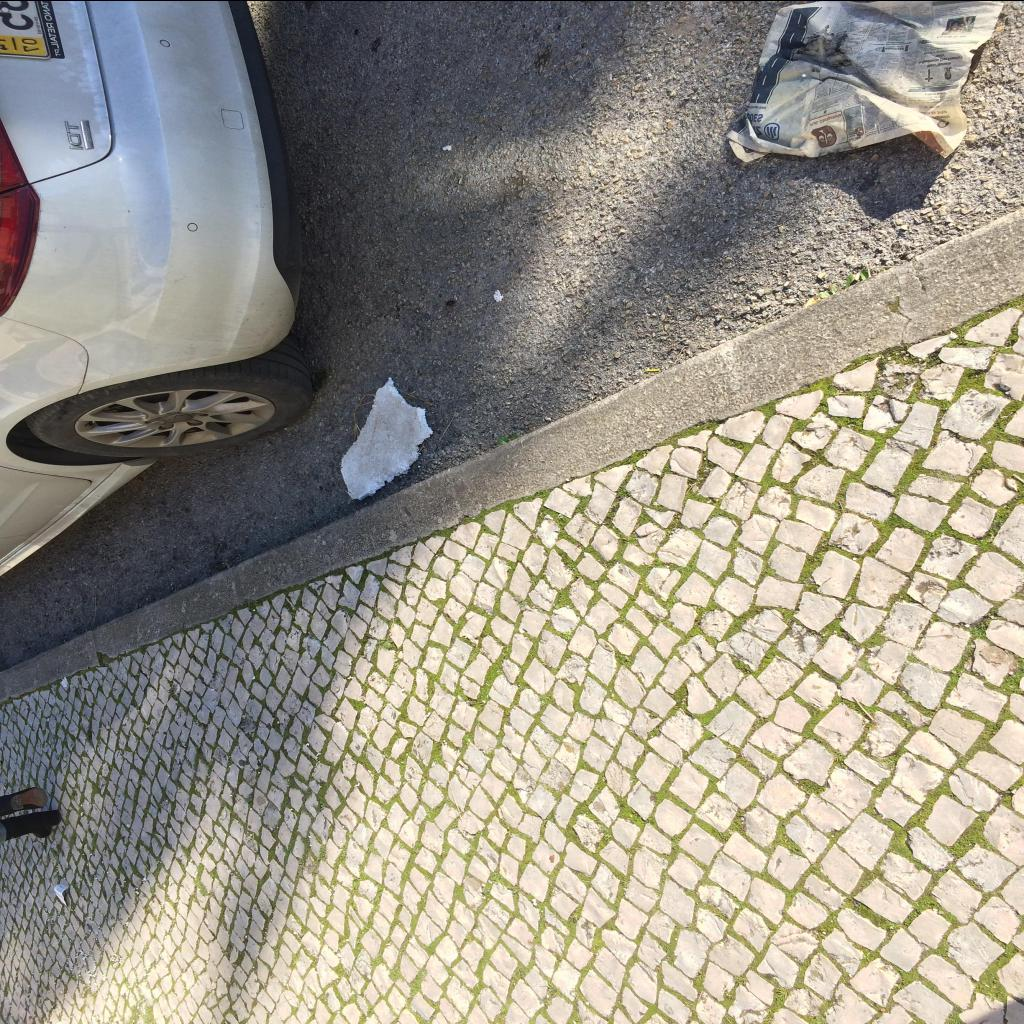Normal paper: (726, 0, 1004, 162)
Styrofoam piece: (341, 376, 433, 500), (494, 288, 502, 300)
Unlabeled litter: (54, 882, 68, 906)
